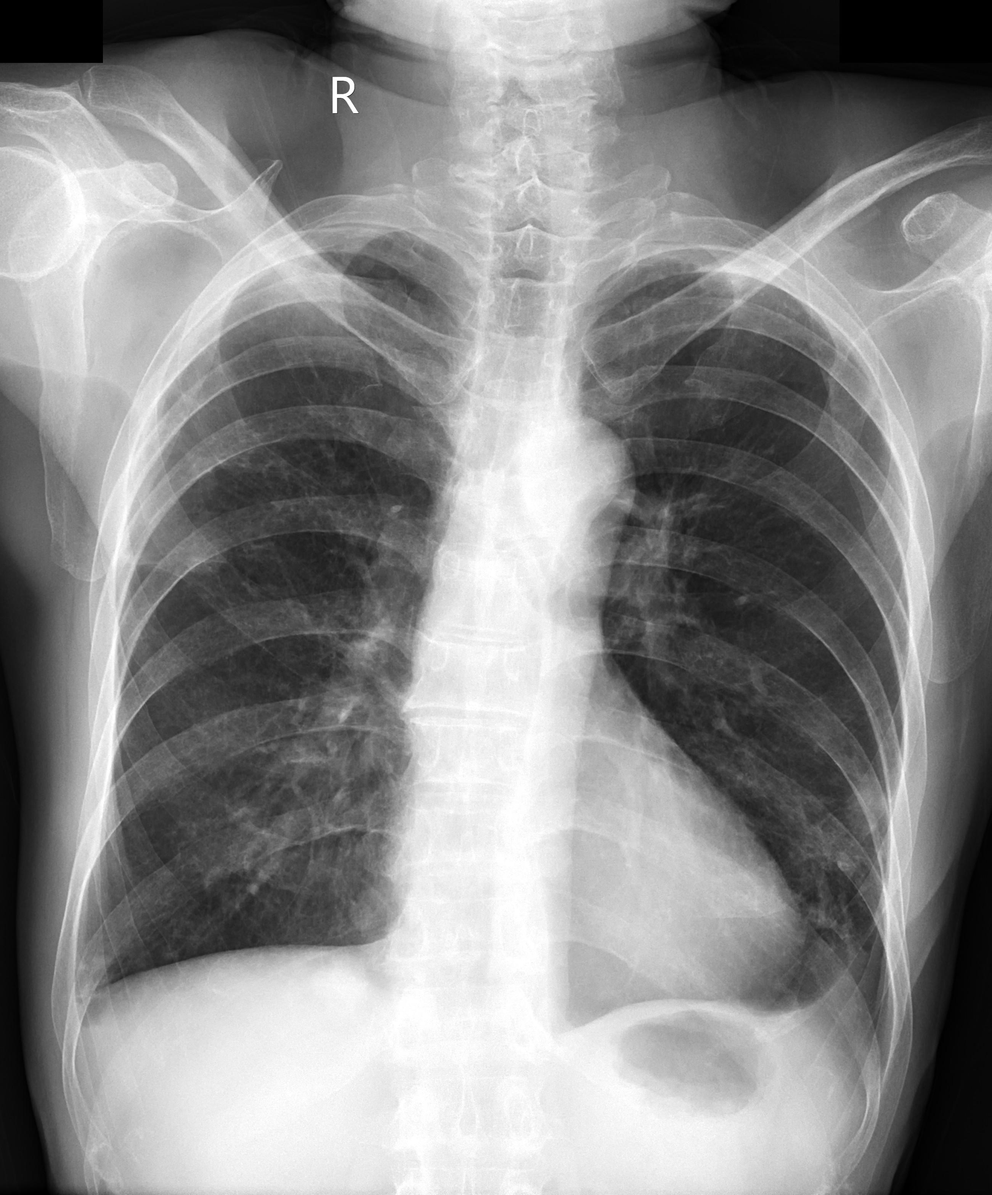Pleural thickening: (810, 922, 900, 1130), (59, 931, 121, 1068)
